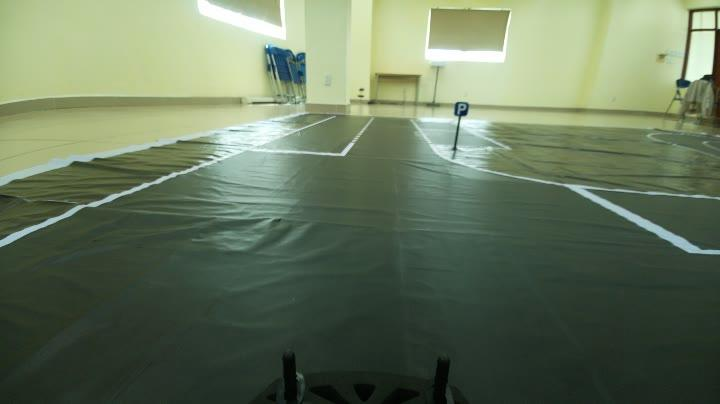parking: (449, 99, 472, 122)
